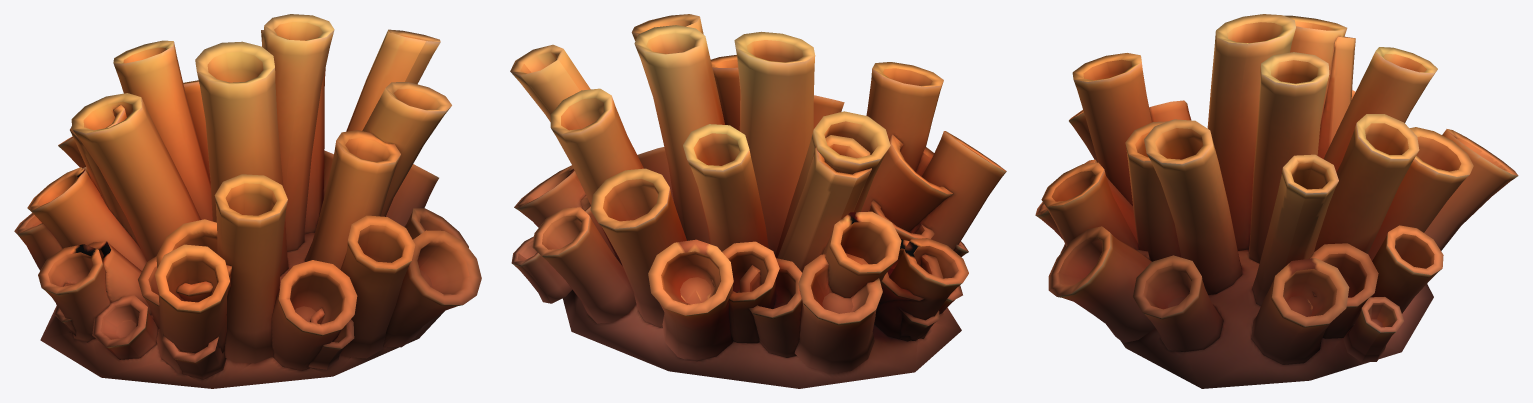
Rendered from tubecoral.glb.
3 views of the same model, side by side, from view 1: azimuth 30°, elevation 25°; view 2: azimuth 150°, elevation 25°; view 3: azimuth 270°, elevation 25° (orthographic).
Parts seen in each view (by area): view 1: TubeCoral; view 2: TubeCoral; view 3: TubeCoral.
Boxes of the visible parts, x1,y1,x2,y2 form: TubeCoral: (14, 14, 481, 388); TubeCoral: (510, 14, 1006, 388); TubeCoral: (1035, 14, 1518, 388).
Bounding box in the file's own units: 2.05 × 1.23 × 2.03.
Materials: 1 (1 with a texture image).
